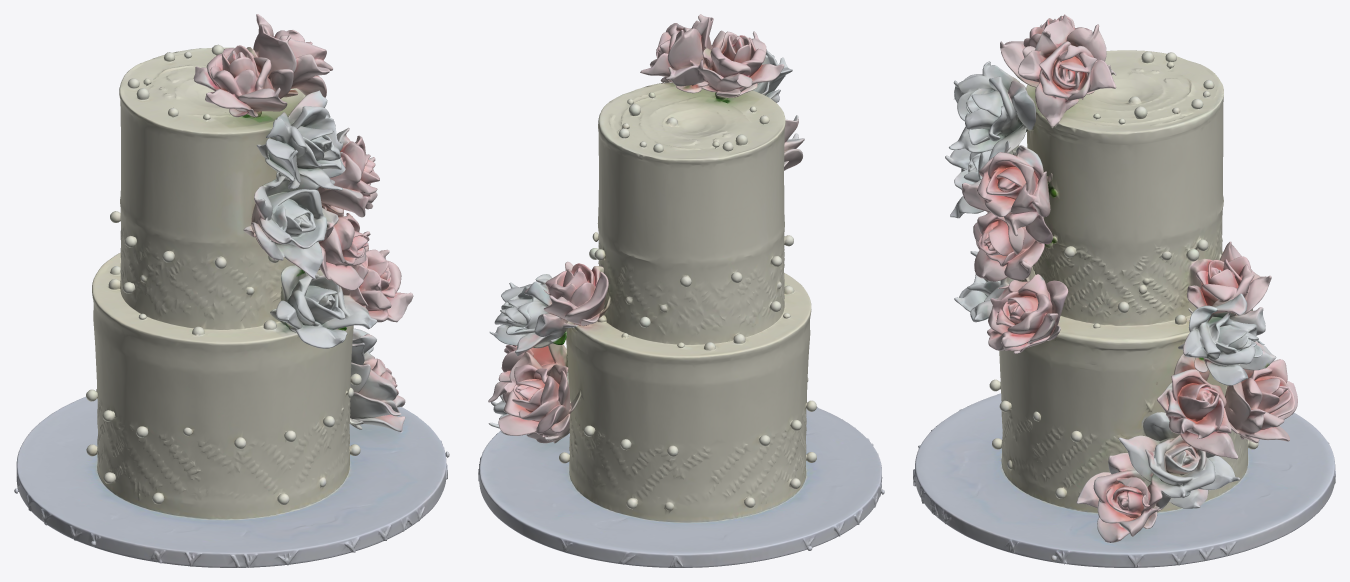
File: torta-dolce.glb
3 renders of one model, left to right at view 1: azimuth 30°, elevation 25°; view 2: azimuth 150°, elevation 25°; view 3: azimuth 270°, elevation 25°, orthographic. The views are drawn at different scales.
Visible parts, largest first — view 1: torta; view 2: torta; view 3: torta.
Boxes of the visible parts, x1,y1,x2,y2 form: torta: (14, 14, 449, 567); torta: (478, 14, 884, 567); torta: (913, 14, 1335, 567).
Bounding box in the file's own units: 0.8291 × 1 × 0.823.
1 material, 1 textured.
